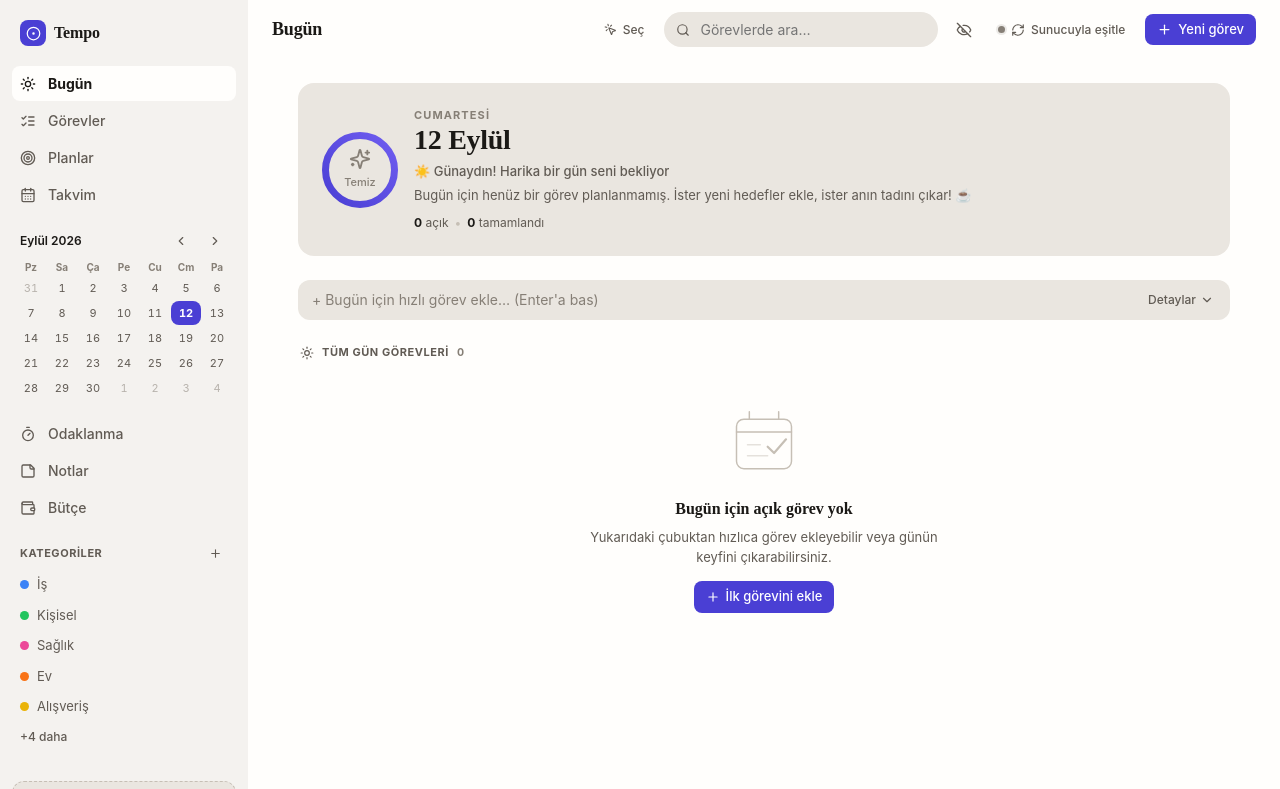
Test: the wishlist › has a tab of its own rather than the top of the page
This screenshot has width=1280, height=789.
What coordinates should you click on to do the following:
click the button "Bütçe"
I would click on:
 (124, 508)
Its box is [12,490,236,525].
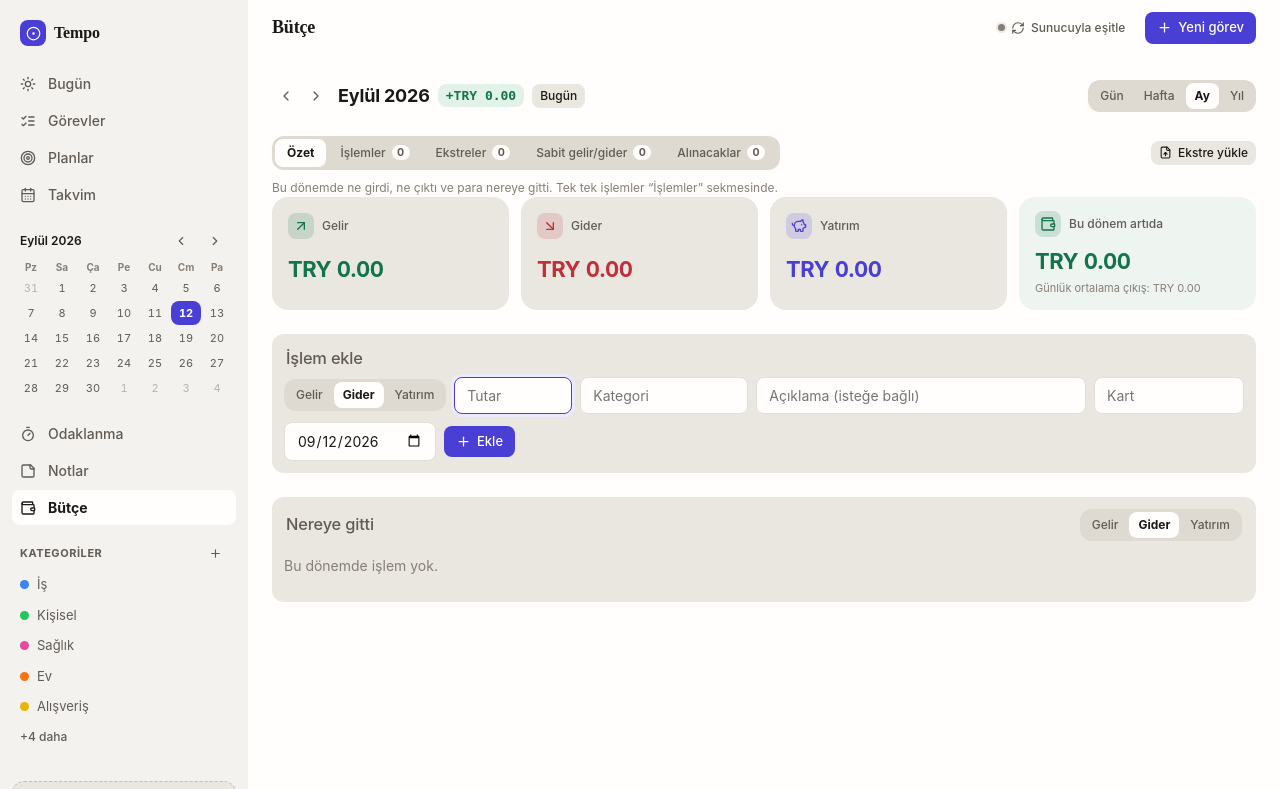
What coordinates should you click on to do the following:
click the tab "Alınacaklar 0"
I would click on:
 (721, 152)
Its box is [665,138,777,166].
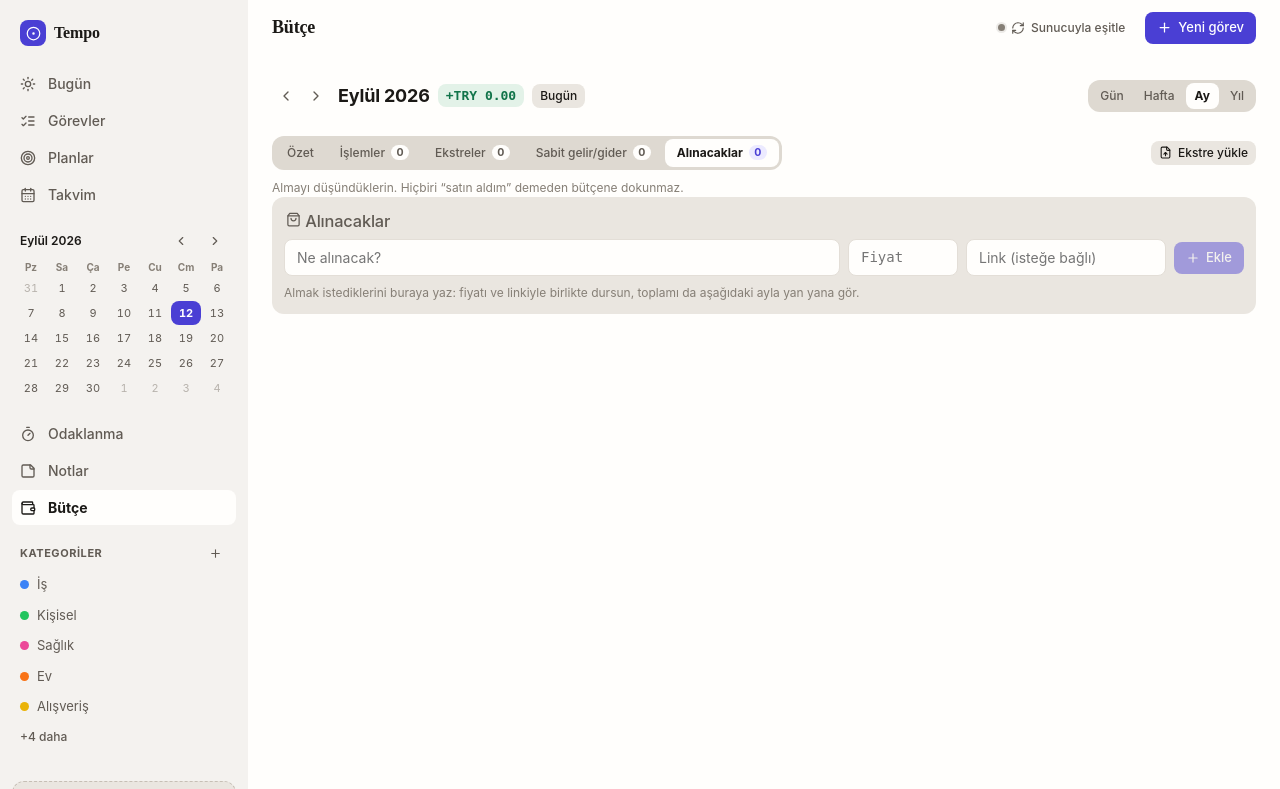
Result: the field with placeholder "Ne alınacak?" is shown at [284,239,840,276]
